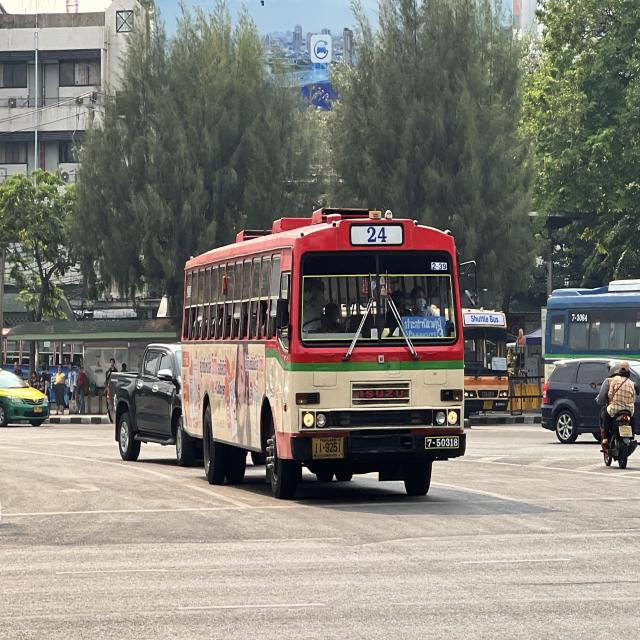BMTA-bus: (179, 210, 468, 502)
Bus-Line-Number: (348, 223, 406, 248)
Destination-Sign-Normal: (402, 316, 446, 339)
